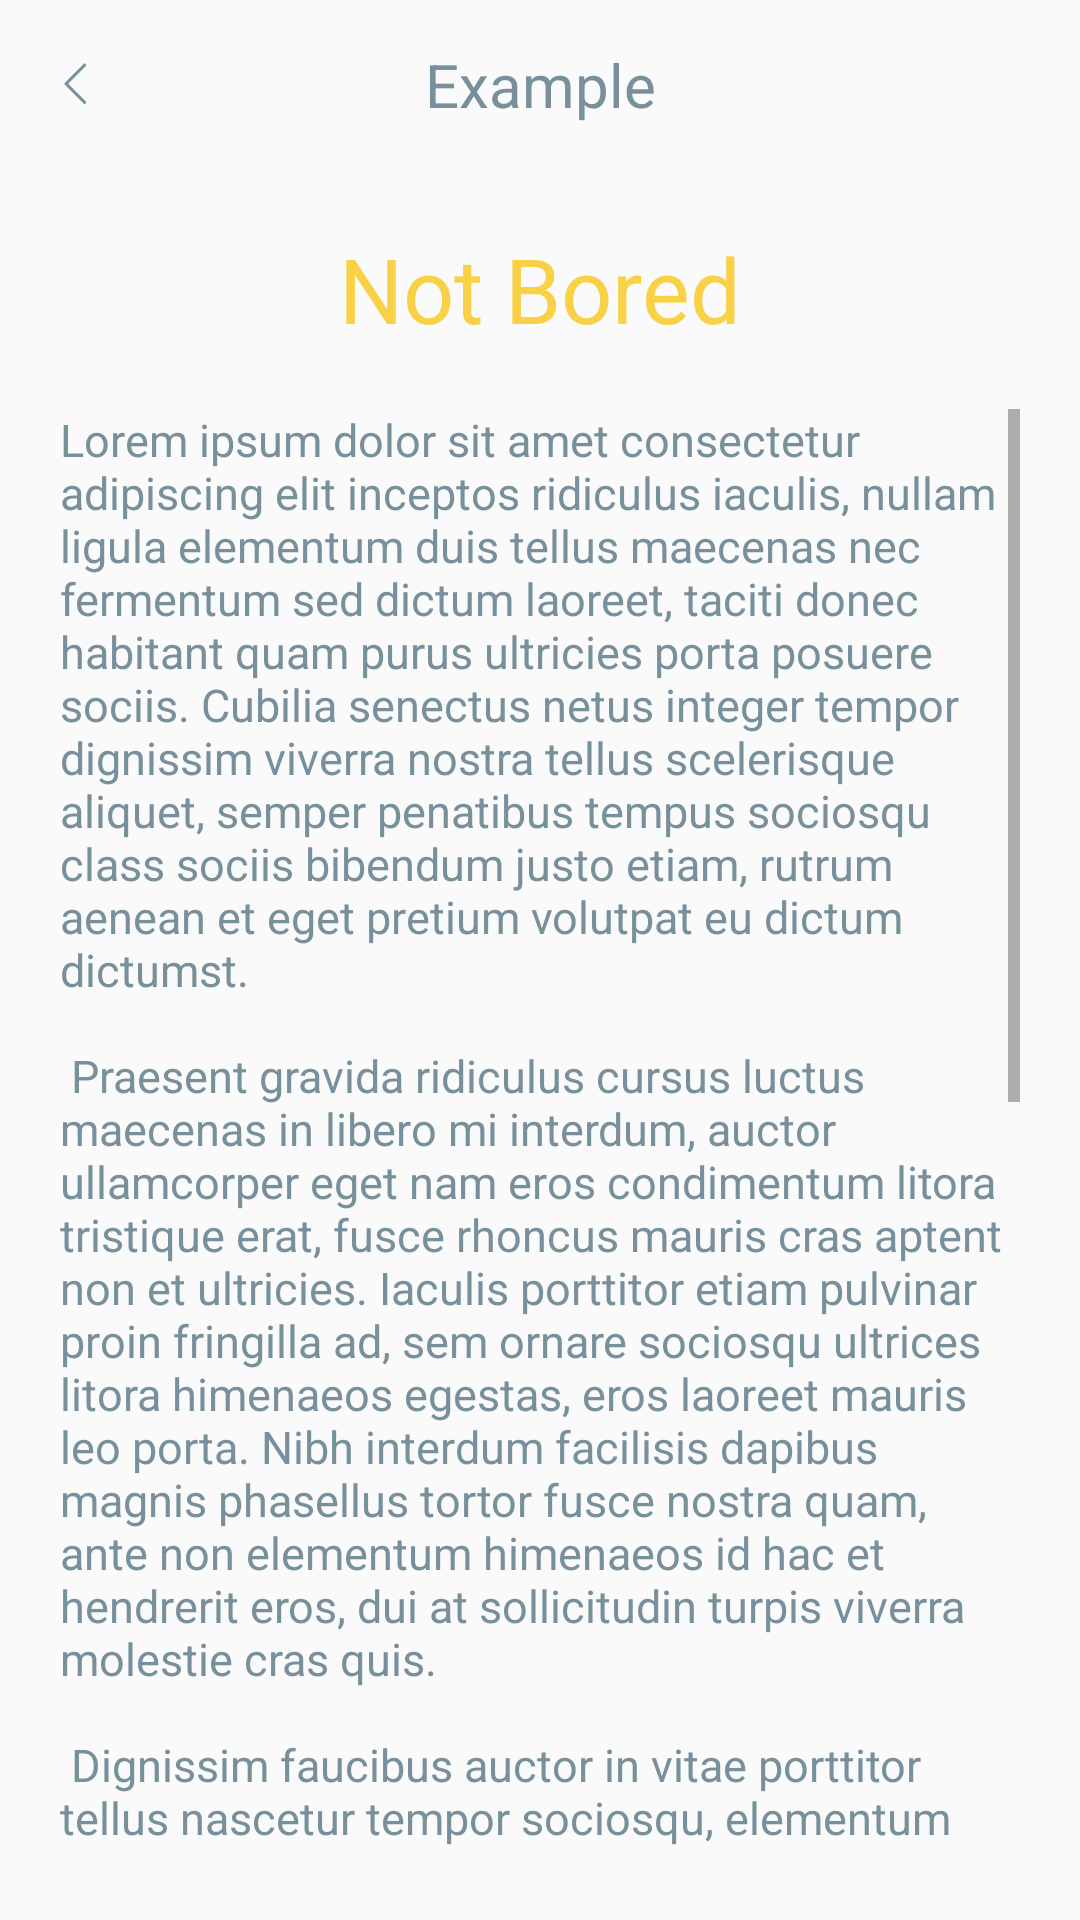

Point at icon controls on the screen. Image size 1080 x 1920, points as (x,y).
arrow left: (75,83)
